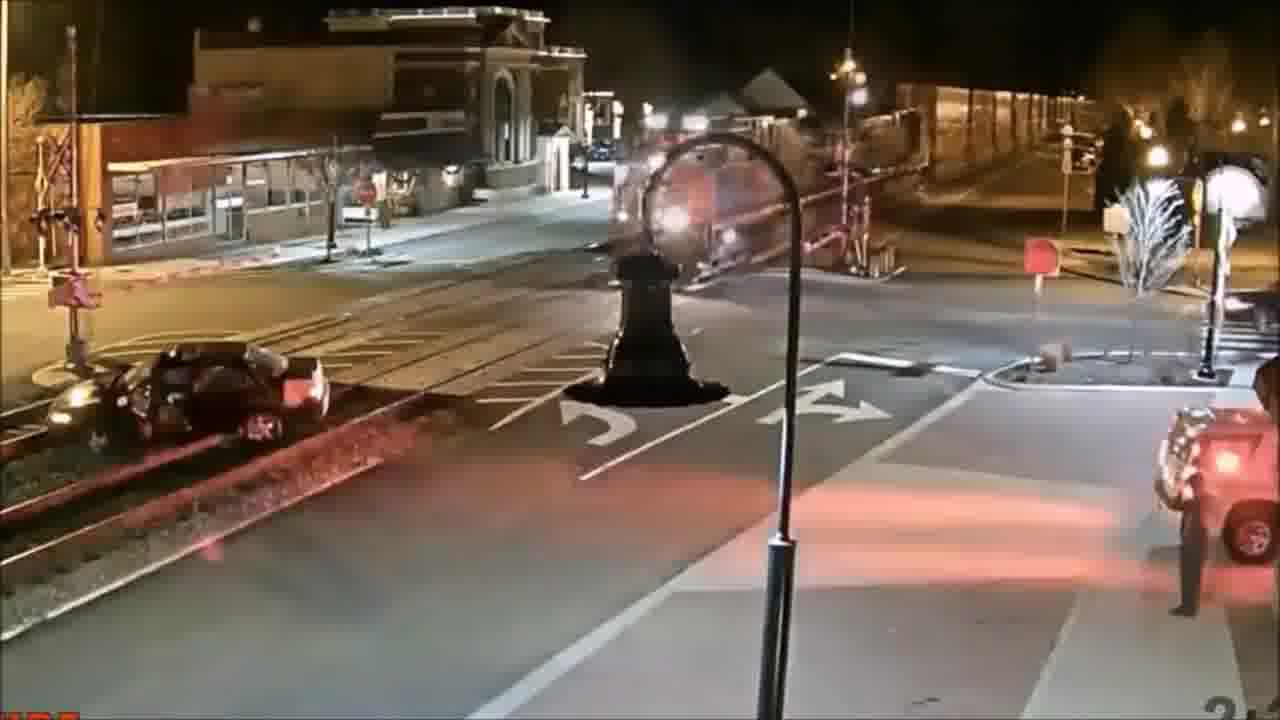crossing railway track: (33, 335, 349, 463)
